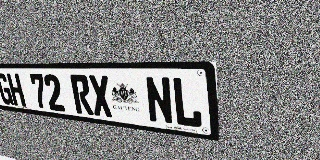2: (43, 74, 65, 112)
7: (28, 74, 50, 110)
G: (0, 73, 14, 105)
H: (6, 73, 26, 107)
L: (171, 77, 203, 129)
N: (144, 76, 174, 125)
R: (70, 75, 94, 115)
X: (88, 75, 113, 118)
